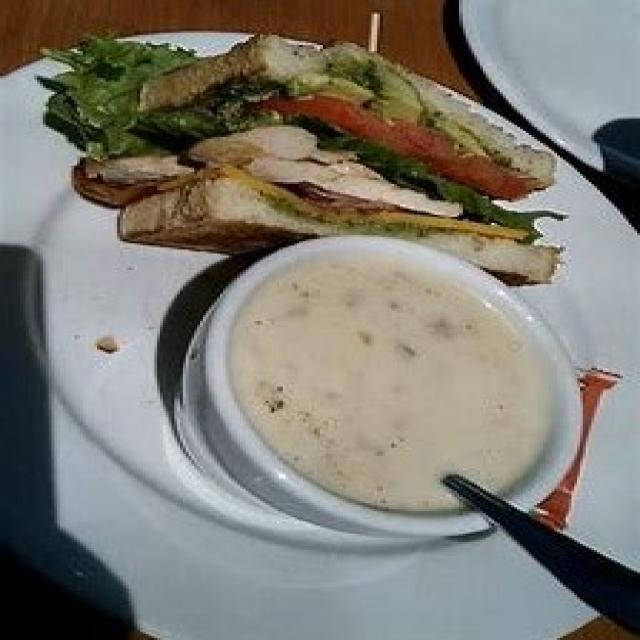Sandwich: (86, 31, 563, 256)
